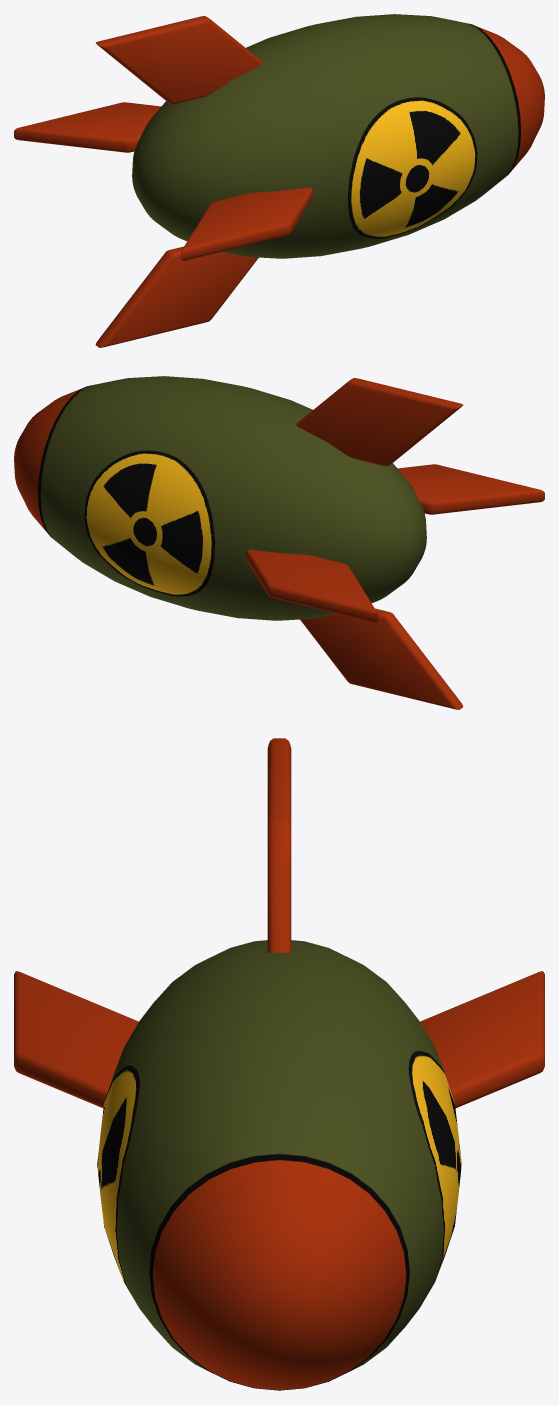
The model's file is Nuke.fbx.
3 views of the same model, one above another, from view 1: azimuth 30°, elevation 25°; view 2: azimuth 150°, elevation 25°; view 3: azimuth 270°, elevation 25° (orthographic). The views are drawn at different scales.
Parts seen in each view (by area): view 1: Cube; view 2: Cube; view 3: Cube.
Boxes of the visible parts, x1,y1,x2,y2 form: Cube: [14, 14, 544, 347]; Cube: [14, 376, 544, 709]; Cube: [14, 738, 544, 1390].
Bounding box in the file's own units: 221 × 146 × 146.
Materials: 2 (1 with a texture image).
